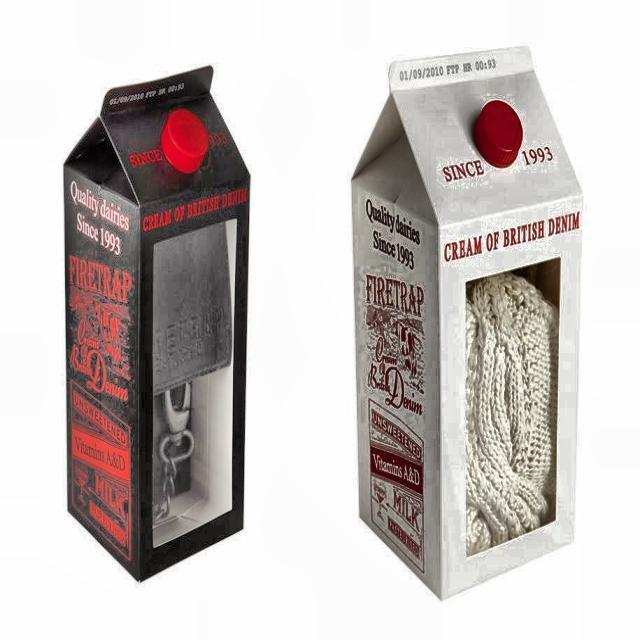cardboard: (350, 44, 582, 601), (62, 64, 250, 584)
